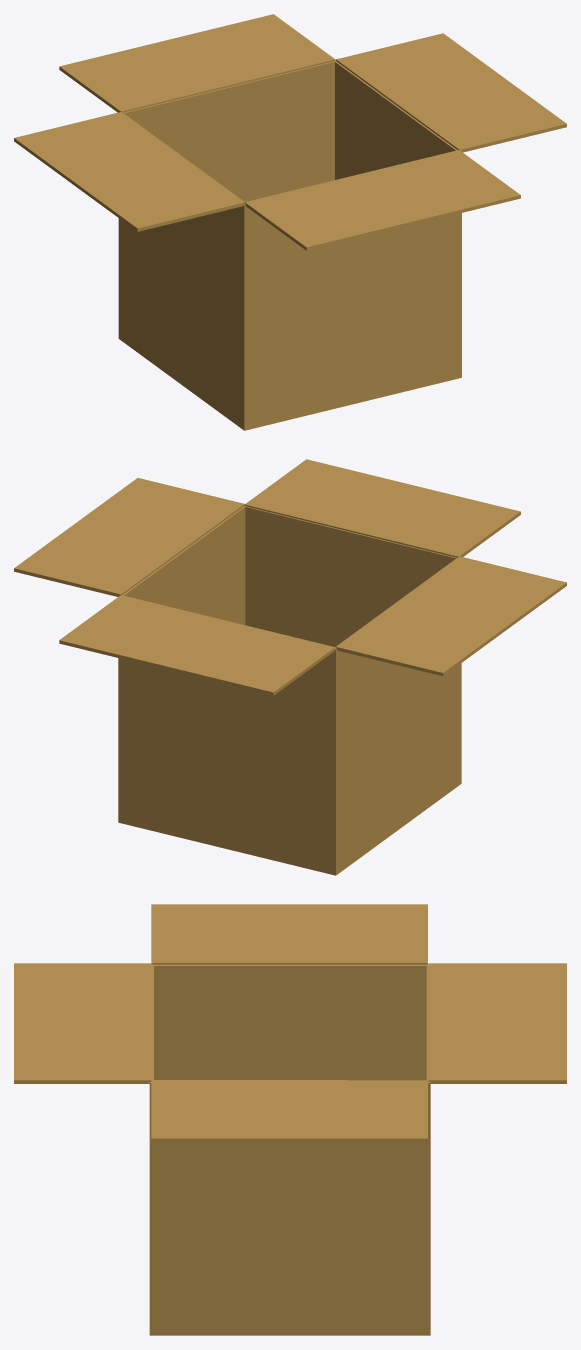
The model's file is Doboz.fbx.
The picture shows the model from 3 angles, top to bottom: view 1: azimuth 30°, elevation 25°; view 2: azimuth 150°, elevation 25°; view 3: azimuth 270°, elevation 25°; orthographic projection. The views are drawn at different scales.
Parts seen in each view (by area): view 1: Cube; view 2: Cube; view 3: Cube.
Part boxes in pixels (box(x1,y1,x2,y2)): Cube: box(14, 14, 566, 430); Cube: box(14, 459, 566, 875); Cube: box(14, 904, 566, 1335).
Size of the model in its own units: 401 by 203 by 400.
